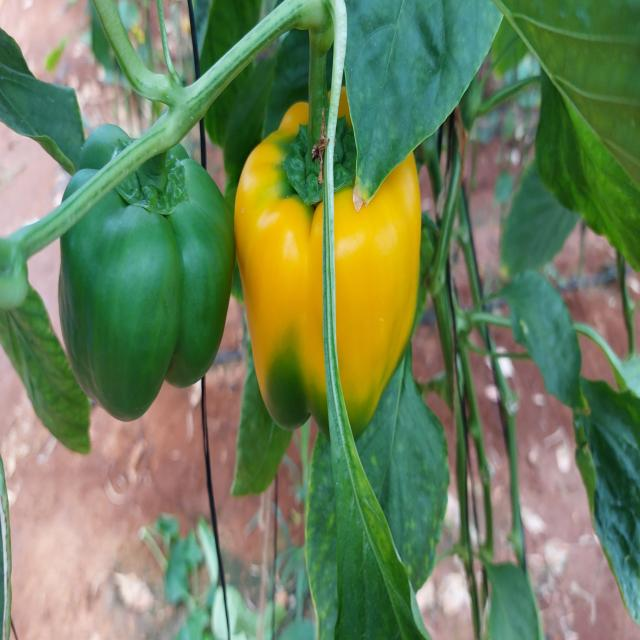Yellow-Ready-to-Harvest: (232, 91, 431, 444)
